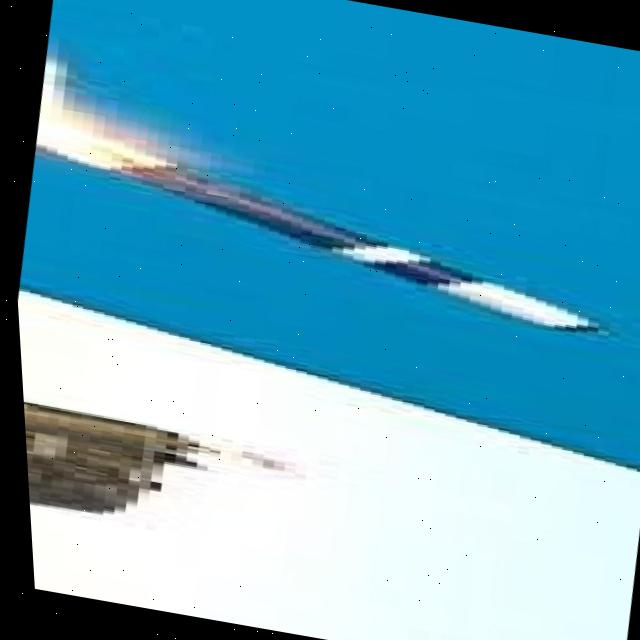missile: (73, 132, 640, 366)
